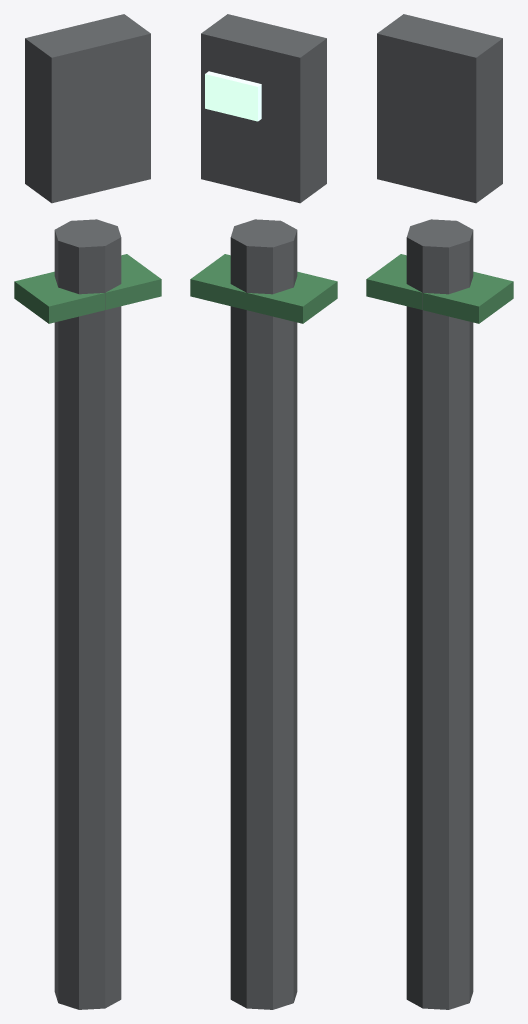
Rendered from meter.glb.
3 views of the same model, side by side, from view 1: azimuth 30°, elevation 25°; view 2: azimuth 150°, elevation 25°; view 3: azimuth 330°, elevation 25° (orthographic).
Visible parts, largest first — view 1: Prop; view 2: Prop; view 3: Prop.
Boxes of the visible parts, left/top/right/bottom form: Prop: left=14, top=14, right=161, bottom=1009; Prop: left=190, top=14, right=337, bottom=1009; Prop: left=366, top=14, right=513, bottom=1009.
Bounding box in the file's own units: 0.17 × 1.38 × 0.13.
